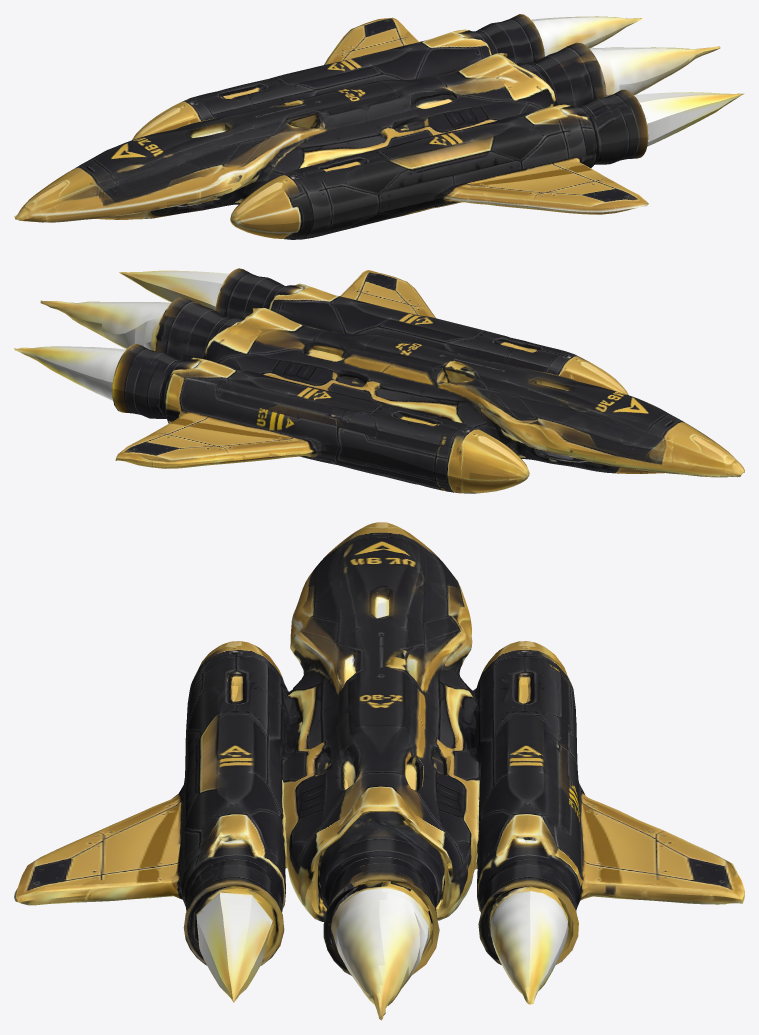
The model's file is Meshy_AI_Retextured_Rocket_Quad_10k_20261125_texture_remesh_quad.glb.
3 renders of one model, top to bottom at view 1: azimuth 30°, elevation 25°; view 2: azimuth 150°, elevation 25°; view 3: azimuth 270°, elevation 25°, orthographic. The views are drawn at different scales.
Parts seen in each view (by area): view 1: Mesh0; view 2: Mesh0; view 3: Mesh0.
Part boxes in pixels (x1=…): Mesh0: x1=14, y1=14, x2=744, y2=239; Mesh0: x1=14, y1=268, x2=744, y2=493; Mesh0: x1=14, y1=522, x2=744, y2=1020.
Size of the model in its own units: 2 by 0.2296 by 1.26.
Materials: 1 (1 with a texture image).
